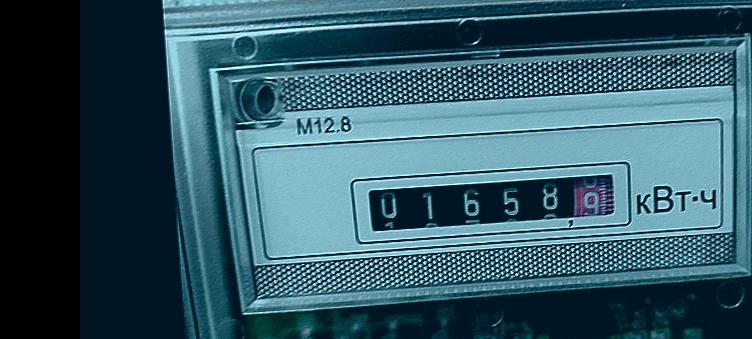0: (377, 186, 400, 220)
1: (421, 188, 436, 220)
5: (501, 183, 522, 217)
6: (461, 185, 483, 217)
8: (540, 179, 561, 212)
9: (581, 188, 600, 215)
screen: (343, 151, 639, 249)
